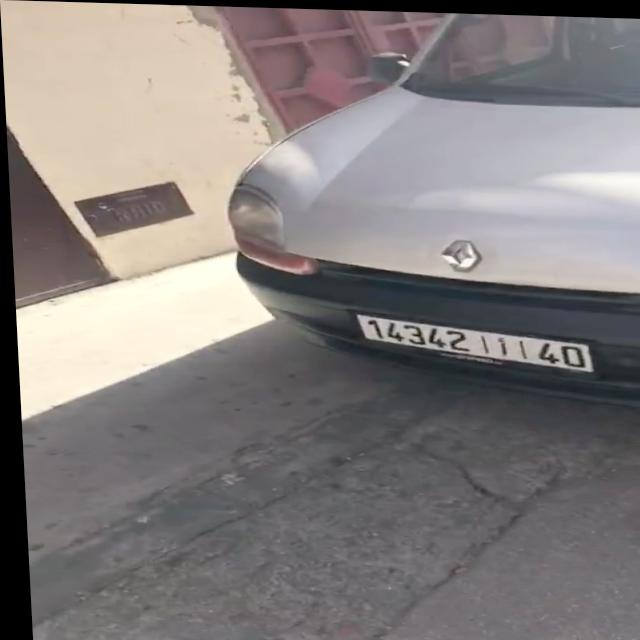License-Plate: (355, 314, 589, 368)
